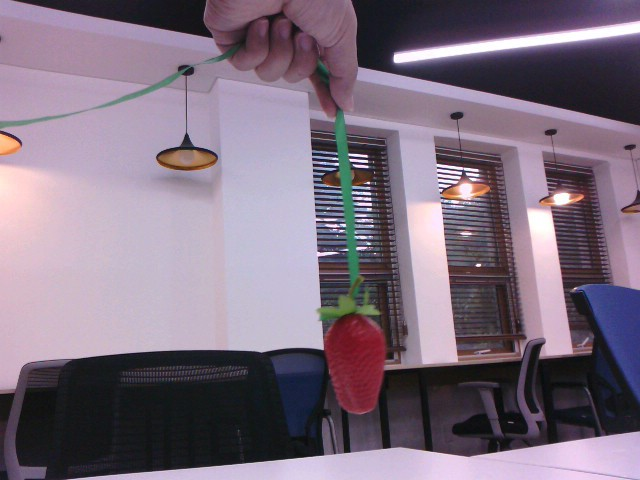strawberry: (316, 296, 394, 416)
